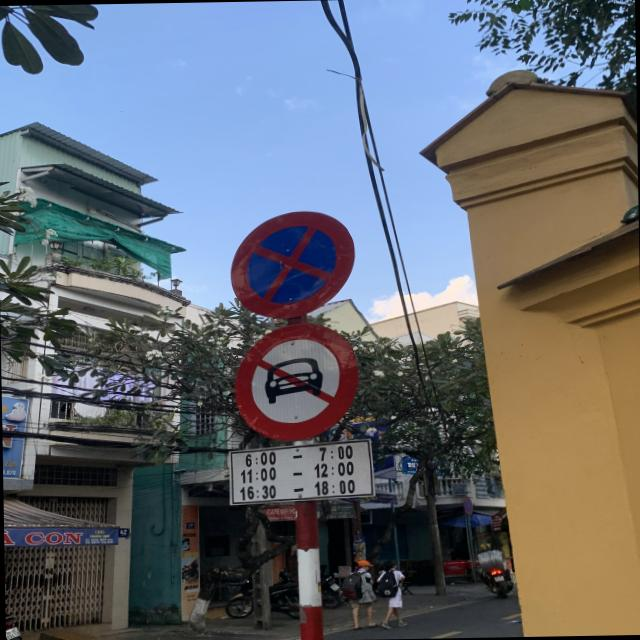Cam_Dung_Va_Dau_Xe: (228, 208, 356, 318)
Cam_O_To: (232, 321, 364, 442)
